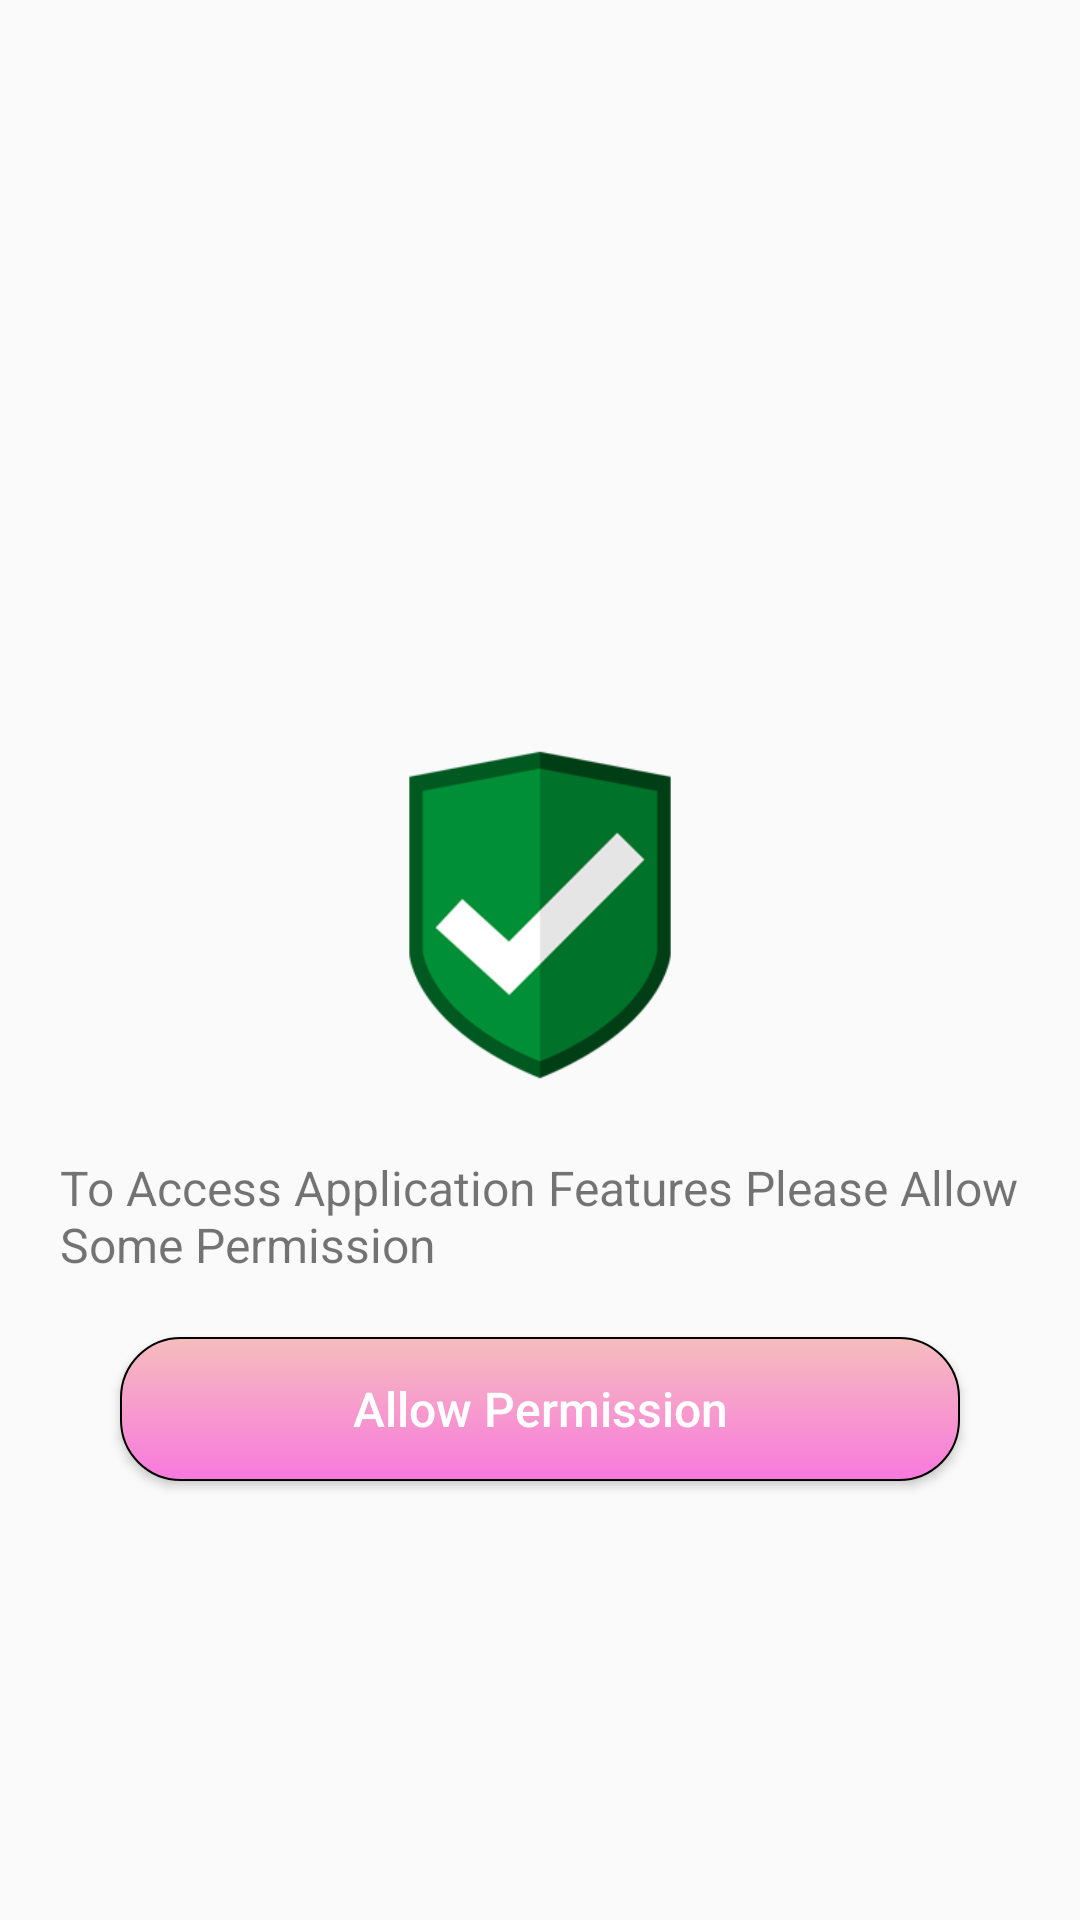

Icon bounding boxes for this 1080 × 1920 phone screenshot, format (x1, y1, x2, y2):
protect: (409, 751, 671, 1079)
